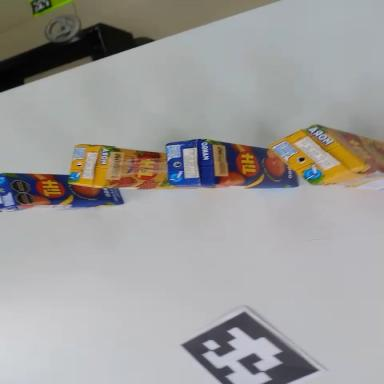HIT-MANGO: (165, 137, 300, 192), (0, 169, 124, 211)
HIT-MORA: (264, 116, 384, 200), (70, 144, 192, 190)
cara_F: (3, 173, 124, 208), (210, 140, 298, 186), (310, 125, 384, 174), (103, 146, 174, 196)
